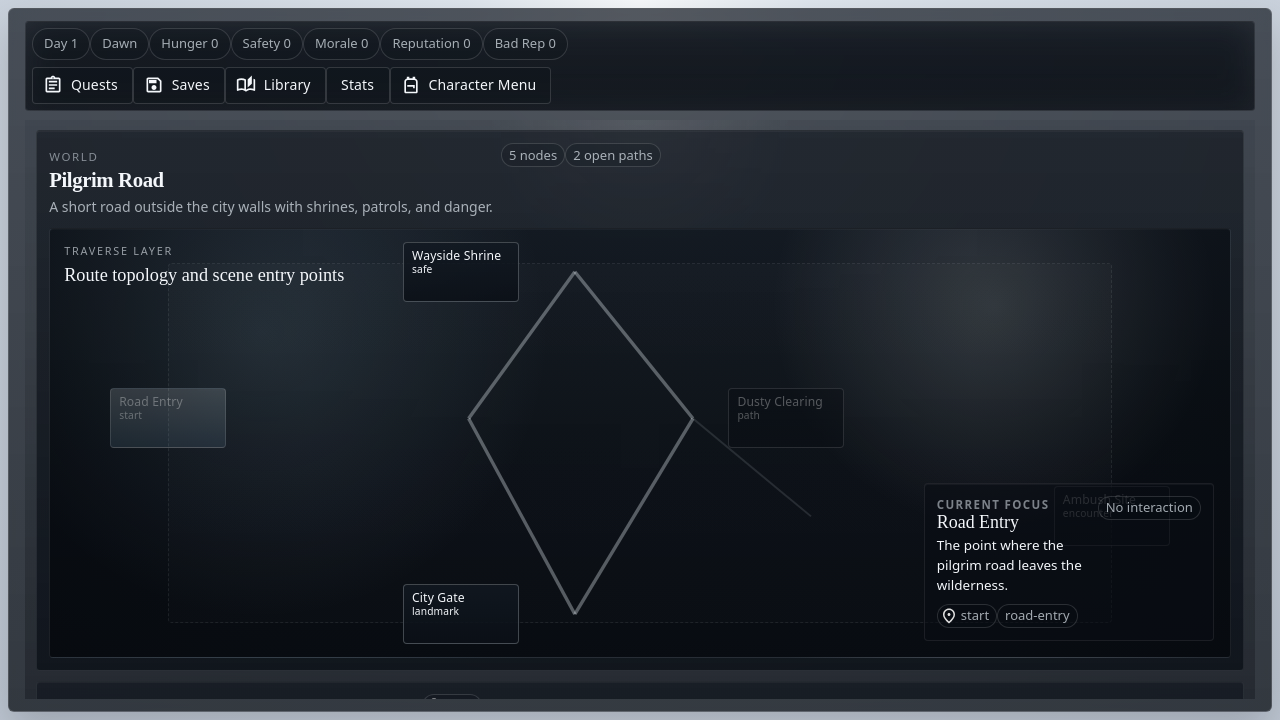
Test case: UI shell screens › allows clicking reachable world nodes
Click the button with aria-label "Move to City Gate" at (461, 614), box [403,584,519,644]
(page scrolled)
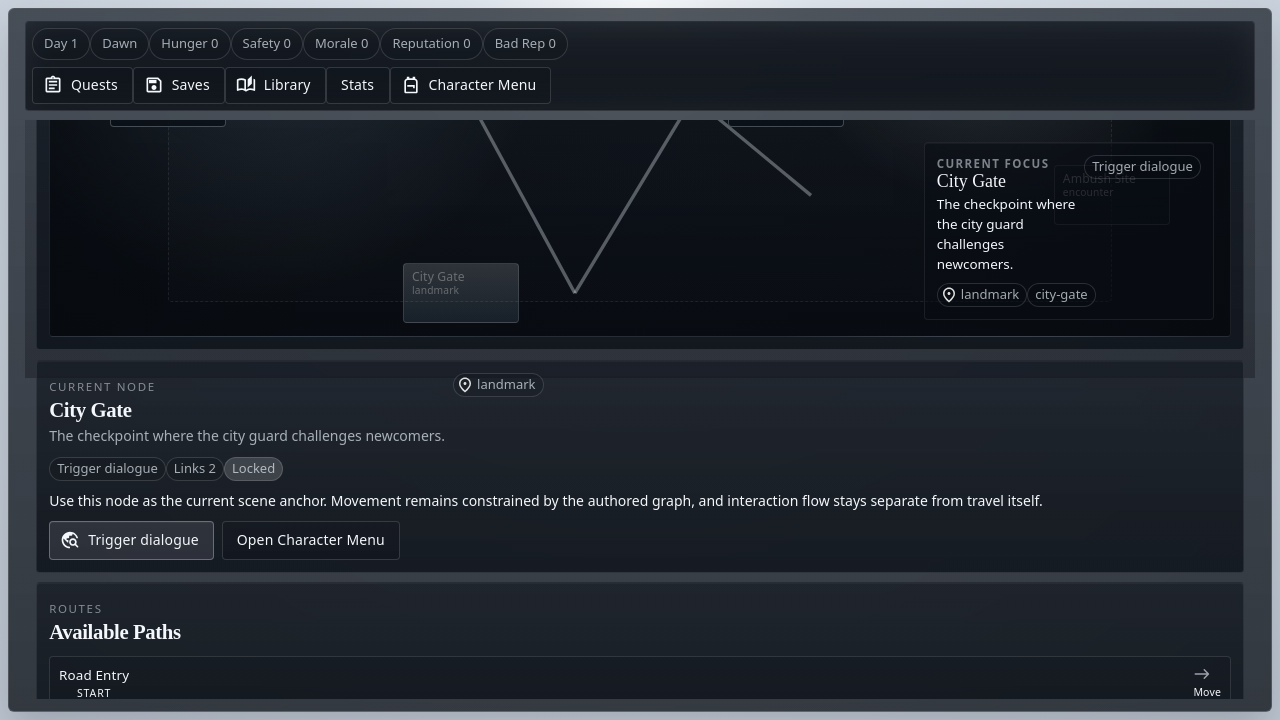
Check: the text "city-gate" is shown, box [1035,285,1088,303]
Check: the heading "City Gate" is shown, box [49,398,132,420]
